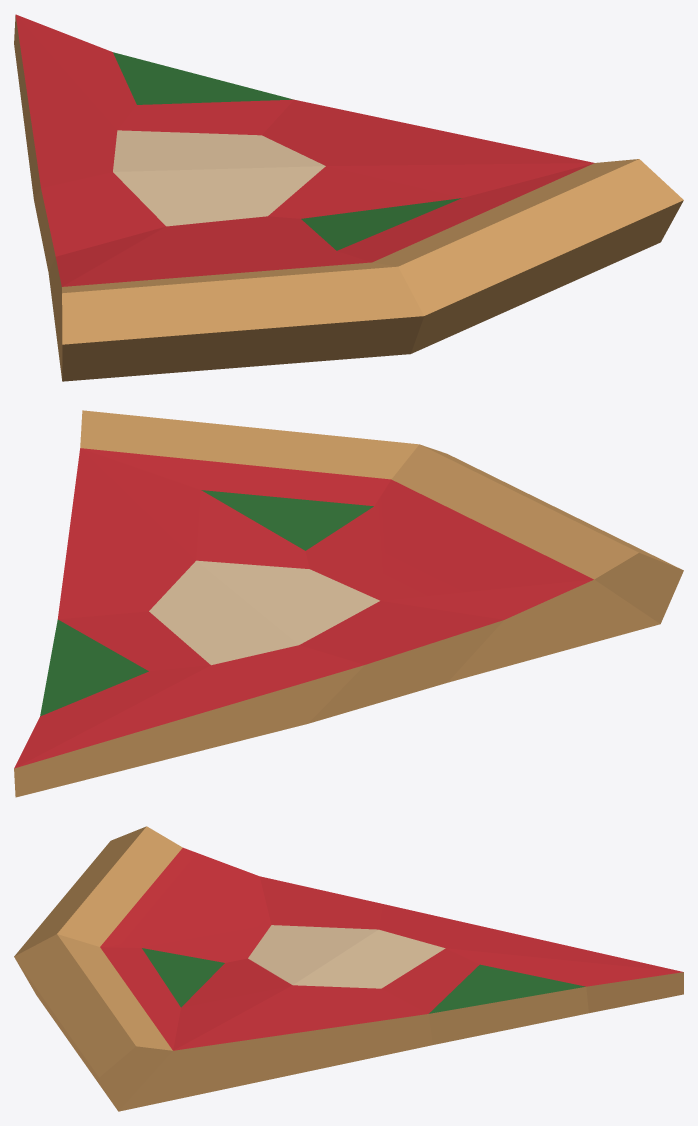
The model's file is food_pizza-mozzarella-slice.fbx.
3 renders of one model, top to bottom at view 1: azimuth 30°, elevation 25°; view 2: azimuth 150°, elevation 25°; view 3: azimuth 270°, elevation 25°, orthographic. The views are drawn at different scales.
Visible parts, largest first — view 1: food_pizza_mozzarella_slice; view 2: food_pizza_mozzarella_slice; view 3: food_pizza_mozzarella_slice.
Boxes of the visible parts, left/top/right/bottom form: food_pizza_mozzarella_slice: left=14, top=14, right=683, bottom=381; food_pizza_mozzarella_slice: left=14, top=410, right=683, bottom=797; food_pizza_mozzarella_slice: left=14, top=826, right=683, bottom=1111.
Bounding box in the file's own units: 167 × 20.25 × 200.
